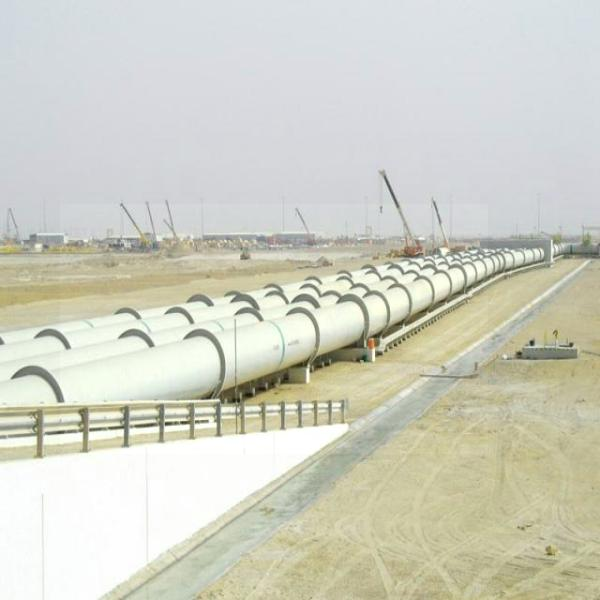no leak: (60, 204, 488, 454)
